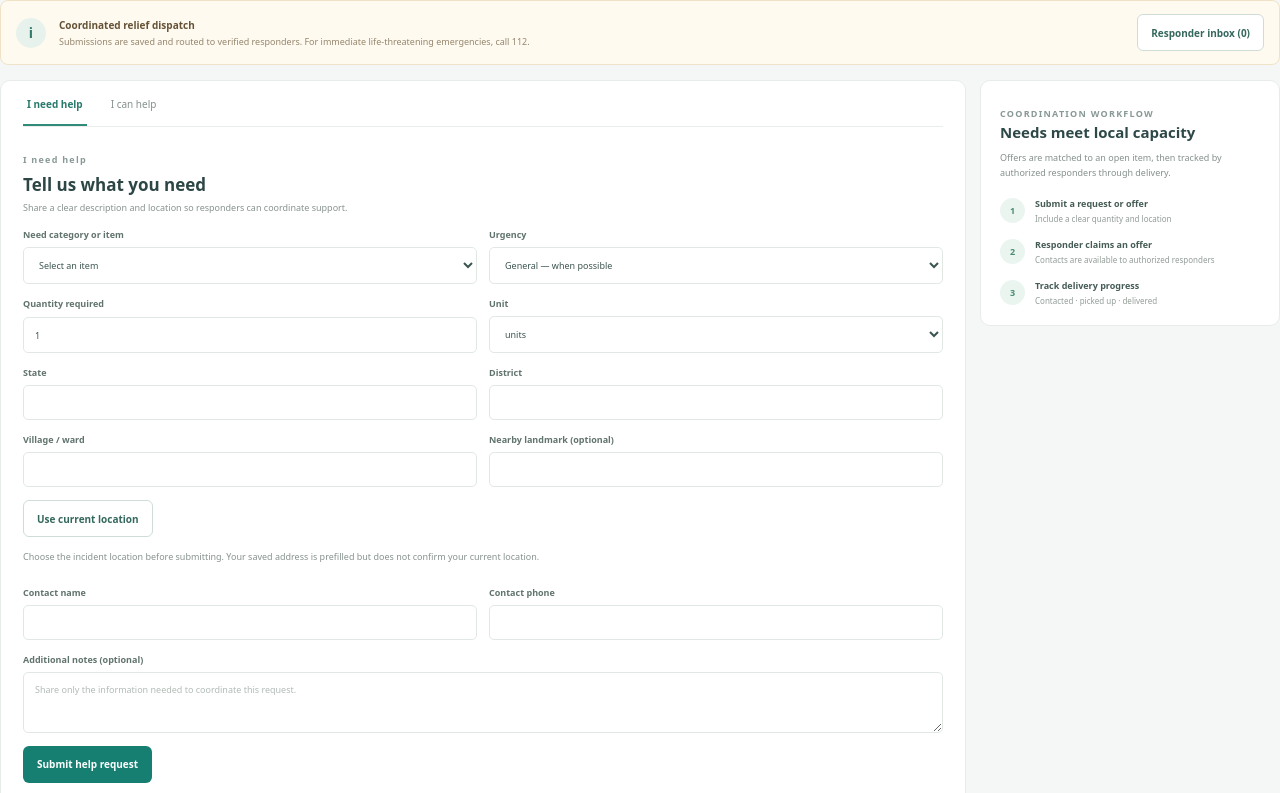
community support coordination › saves submissions in IndexedDB when the browser is offline
Step 1. Select "Blanket" in the dropdown labelled "Need category or item" → (250, 266), box [23,247,477,284]
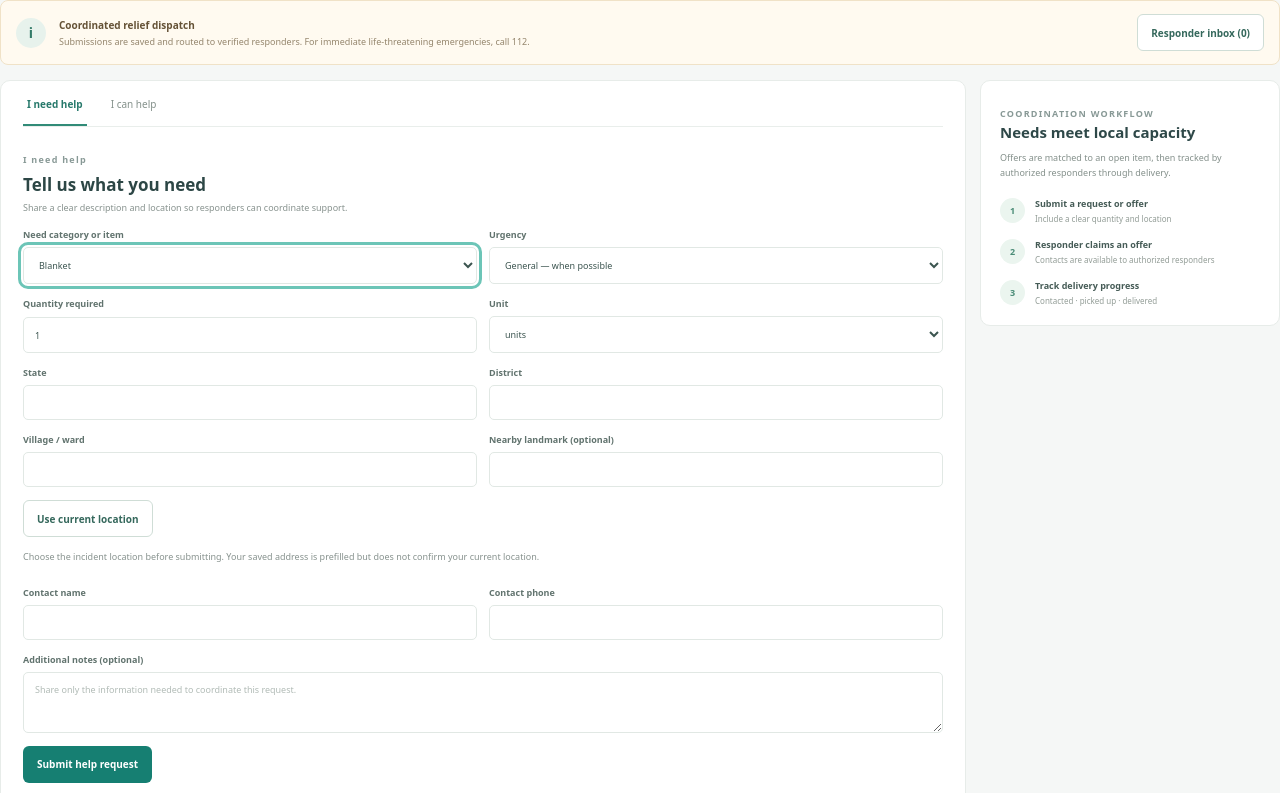
Step 2. Click the button "Use current location" → (88, 518), box [23,500,153,537]
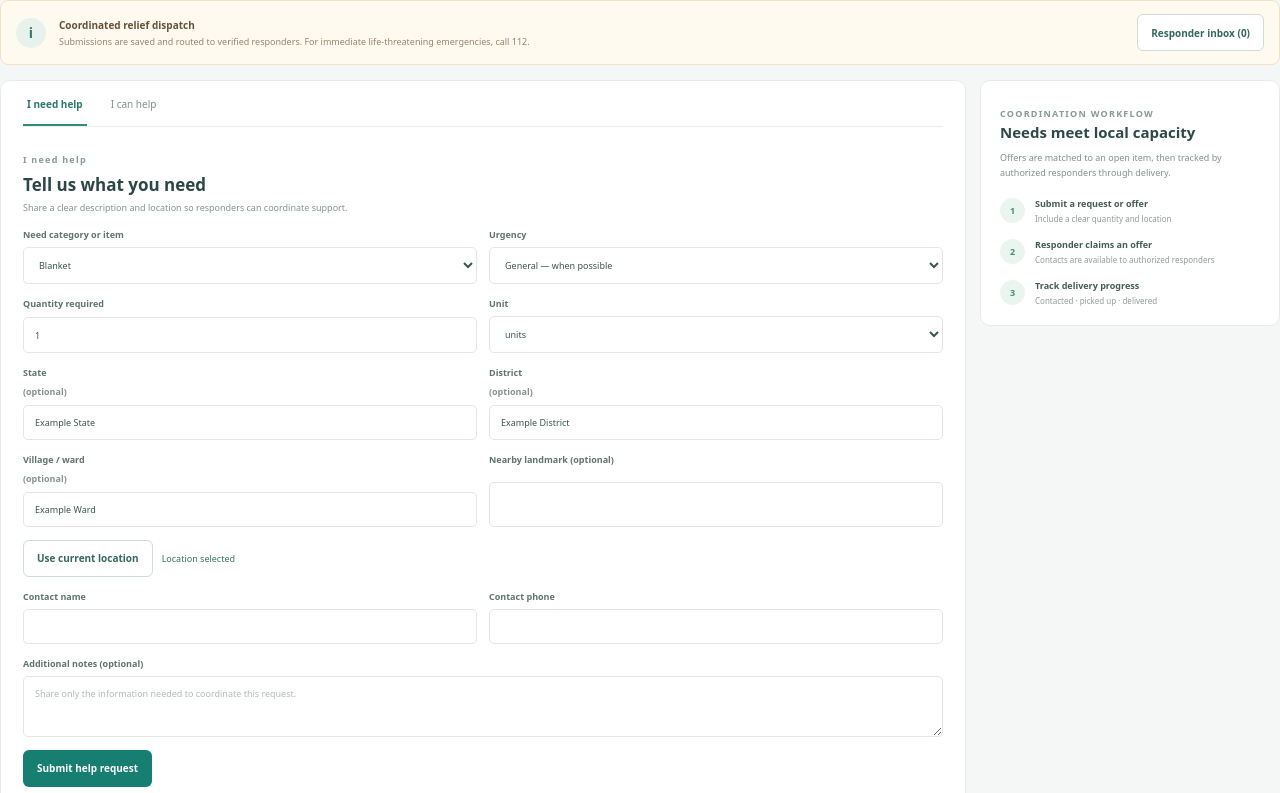
Expected: the field labelled "State" holds "Example State", [23,405,477,440]
Expected: the field labelled "District" holds "Example District", [489,405,943,440]
Expected: the field labelled "Village / ward" holds "Example Ward", [23,492,477,527]
Step 3. Type "Requester" into the field labelled "Contact name" → (250, 626), box [23,609,477,644]
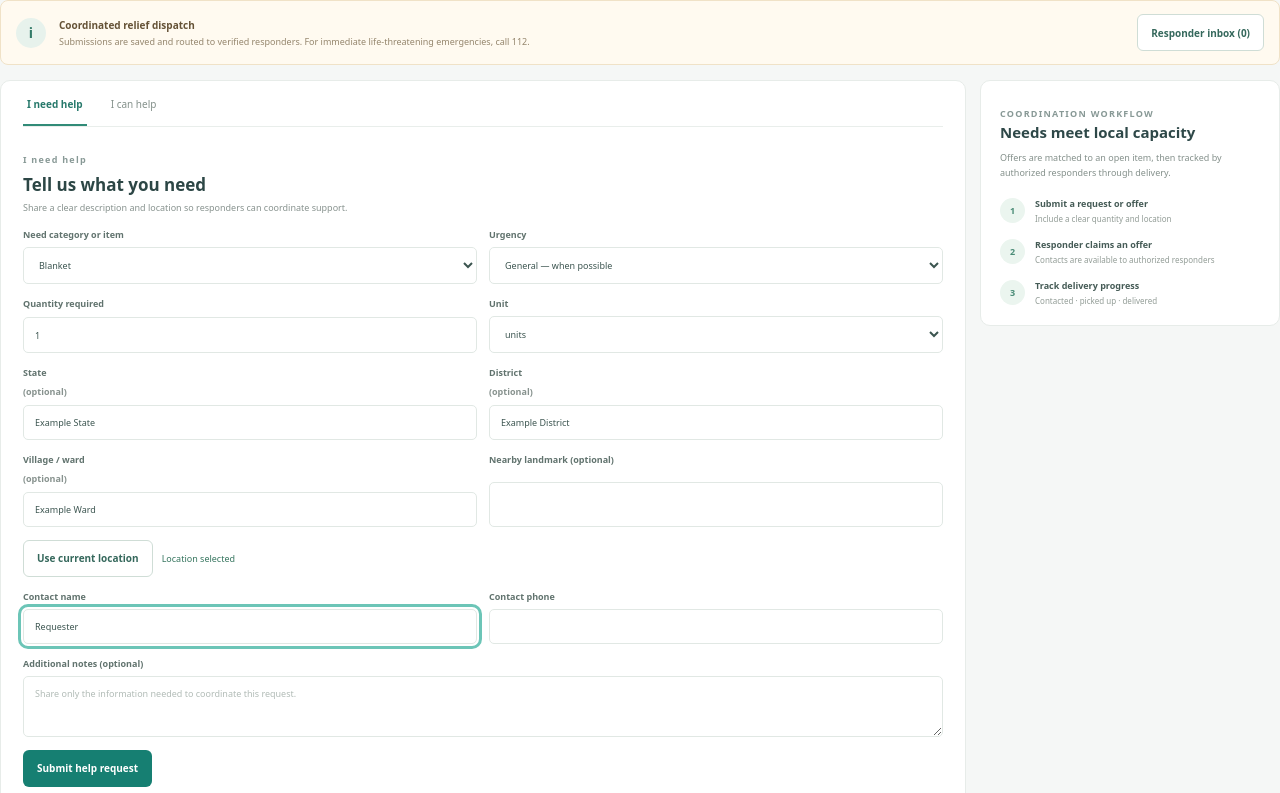
Step 4. Type "+911234567890" into the field labelled "Contact phone" → (716, 626), box [489,609,943,644]
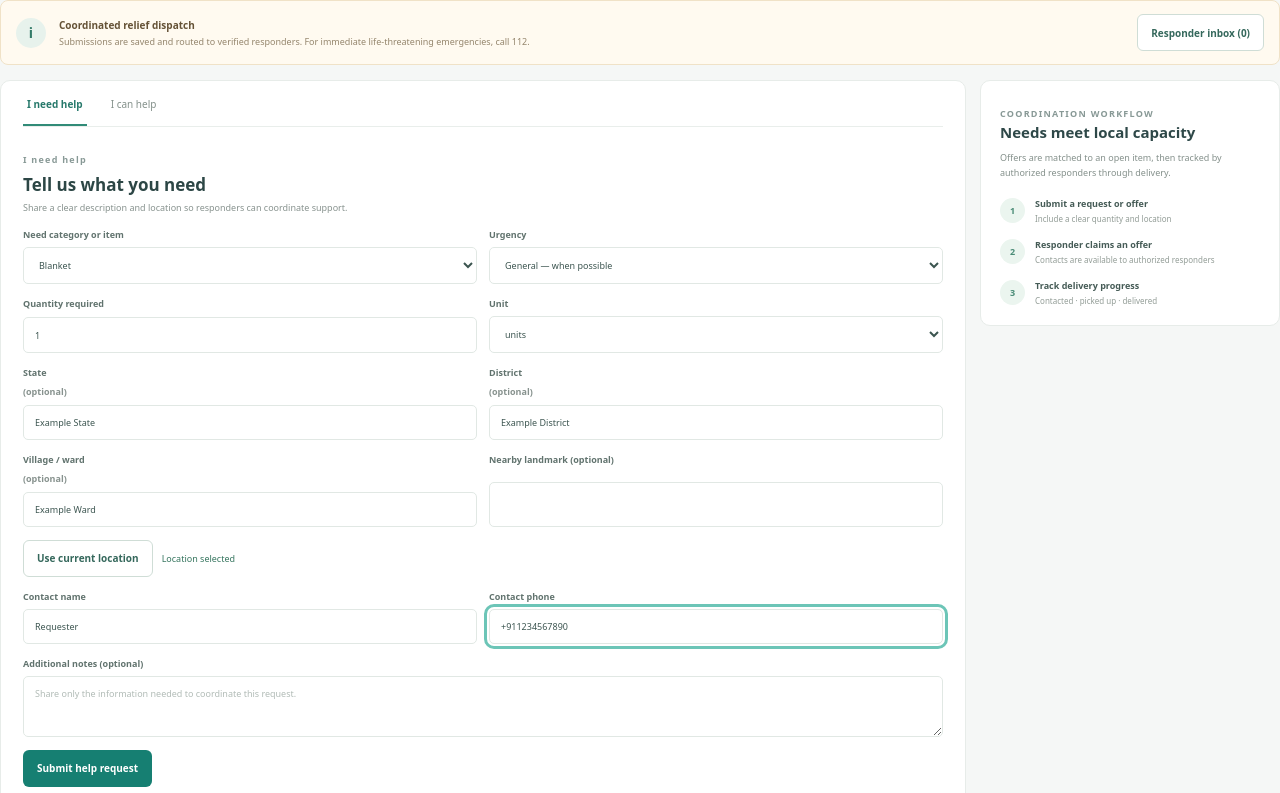
Step 5. Click the button "Submit help request" → (88, 768), box [23,750,152,787]
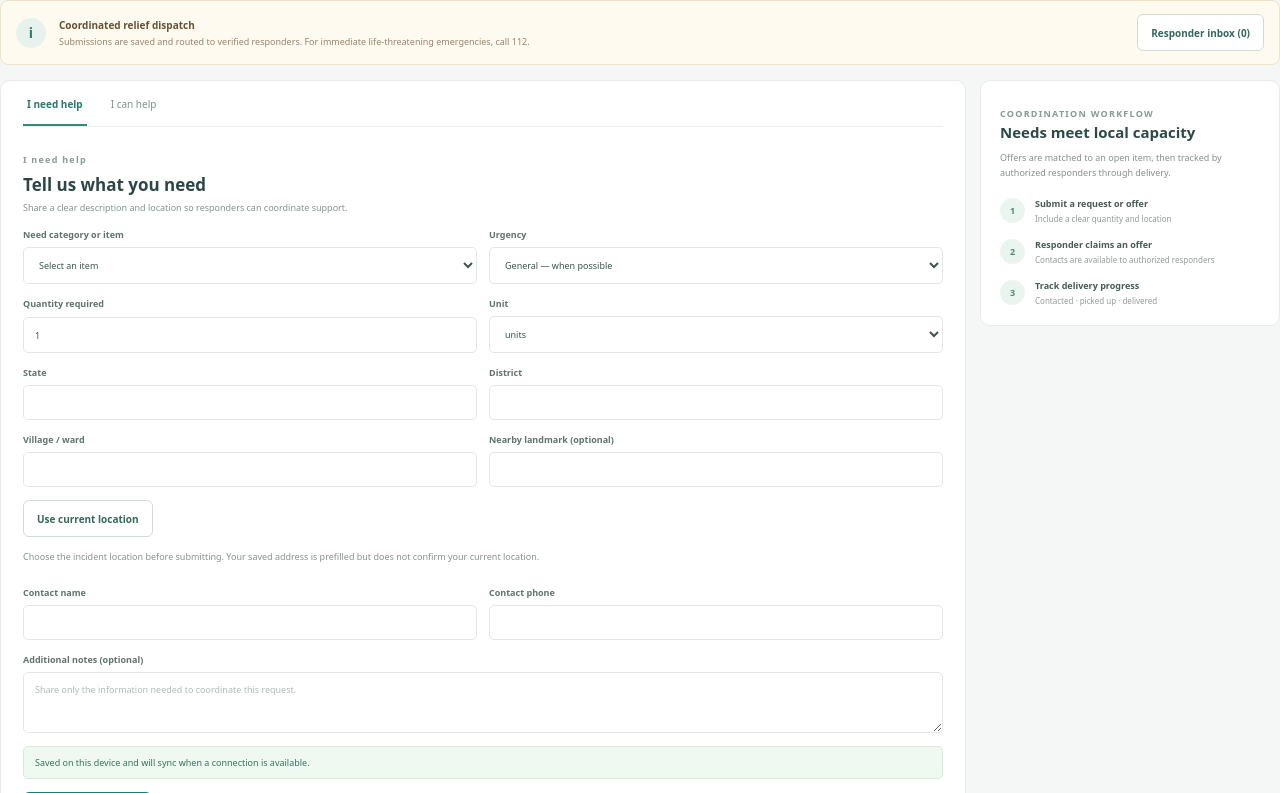
Expected: the text "Saved on this device and will sync when a connection is available." is shown, [35,756,310,769]
